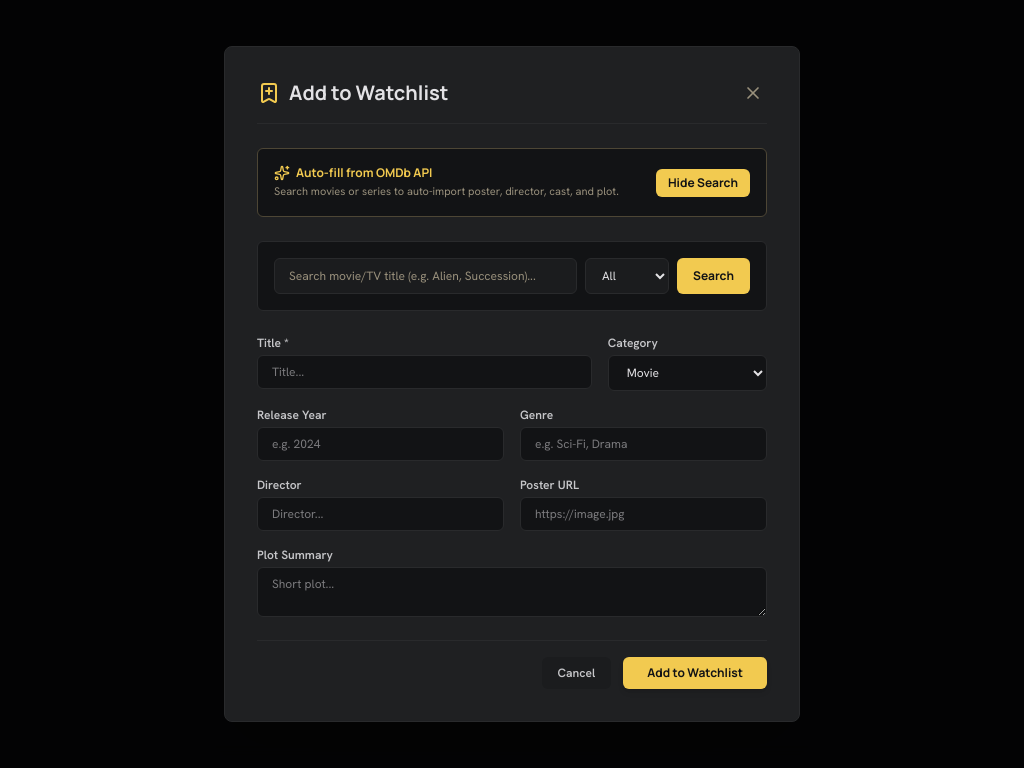
AddWatchlistModal › handles OMDb search with type parameter and single title response
In the field with placeholder "Search movie/TV title (e.g. Alien, Succession)...": (426, 276) [274,258,577,294], type "Breaking Bad"
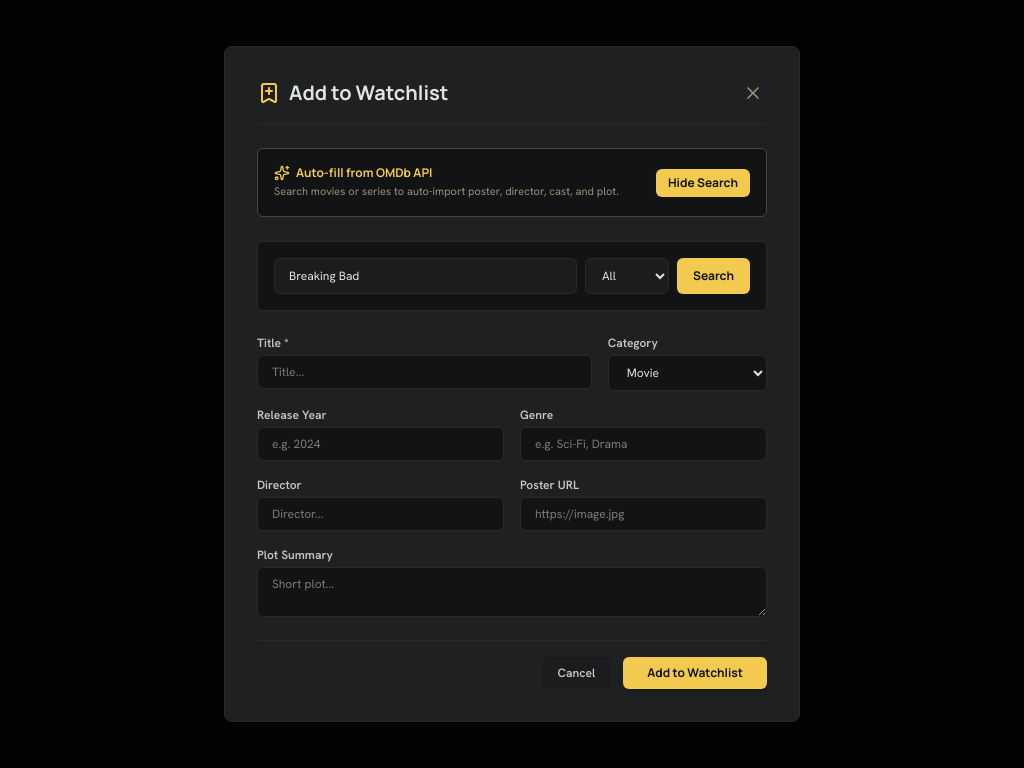
Select "Series" in the 1st dropdown: (627, 276) [585,258,669,294]
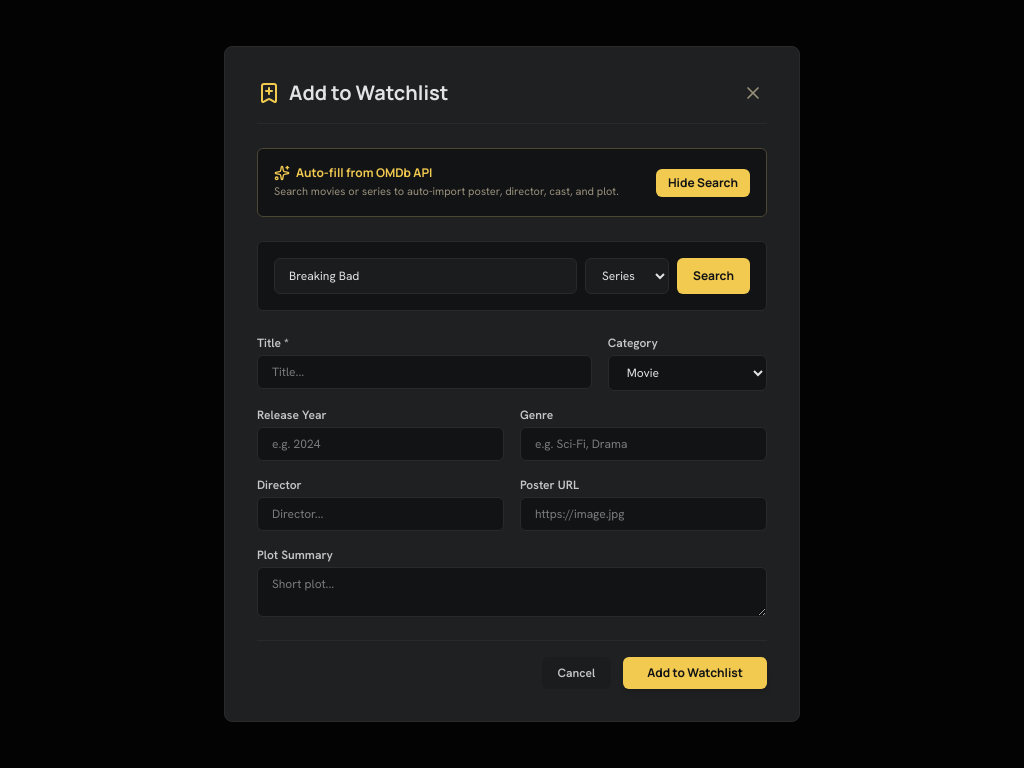
Click the button "Search": (714, 276) [677,258,750,294]
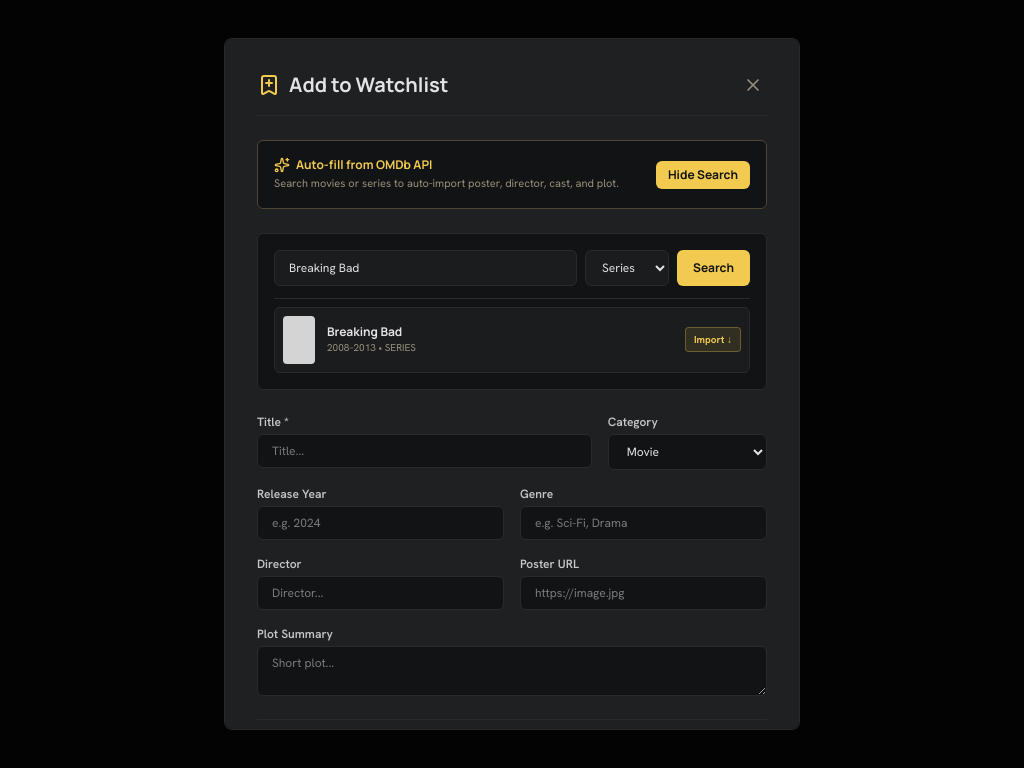
Now the heading "Breaking Bad" is shown, box [327,323,402,340]
